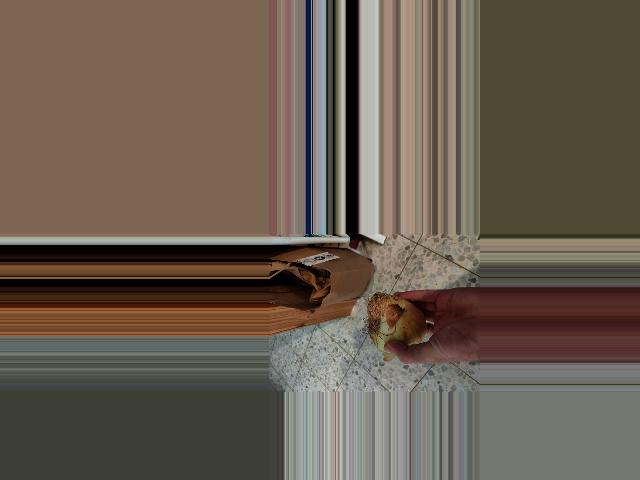onion: (362, 293, 429, 357)
